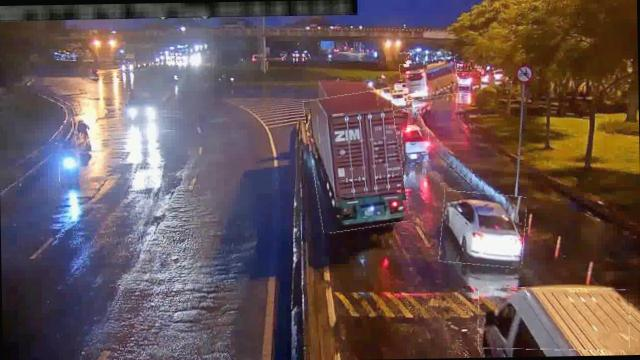Bike: (58, 144, 76, 190), (74, 115, 90, 153)
Bus: (478, 285, 631, 351), (400, 58, 458, 99)
Car: (440, 191, 526, 267), (402, 128, 431, 160), (388, 88, 413, 109)
Truck: (308, 91, 406, 232)
